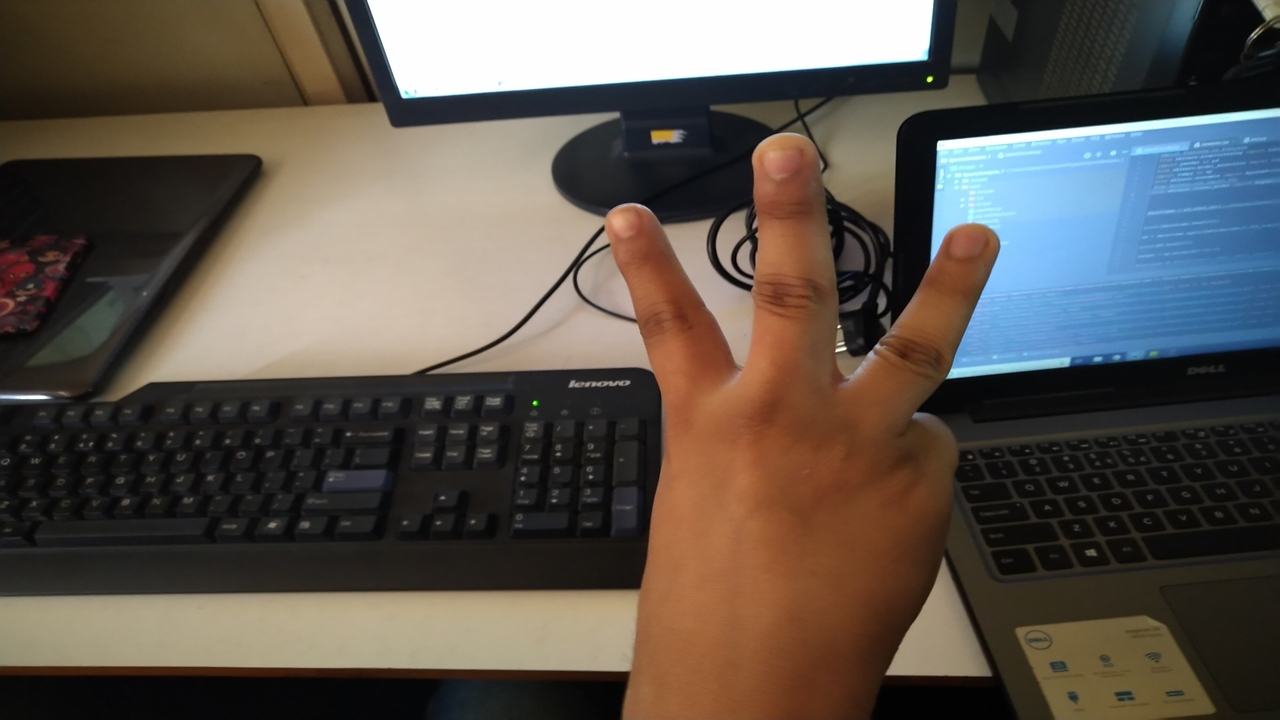fingertip: (748, 130, 826, 200), (598, 194, 664, 252), (942, 220, 1006, 272)
